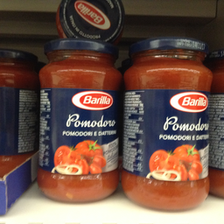tomato_sauce: (121, 37, 215, 212), (36, 39, 122, 203)
